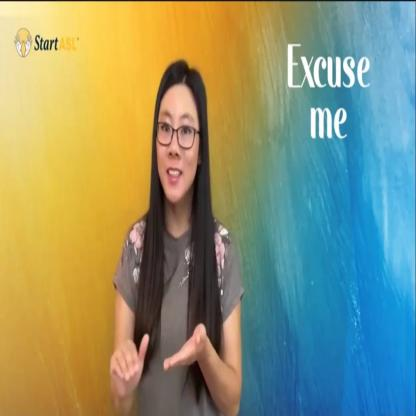ExcuseMe: (107, 322, 206, 400)
